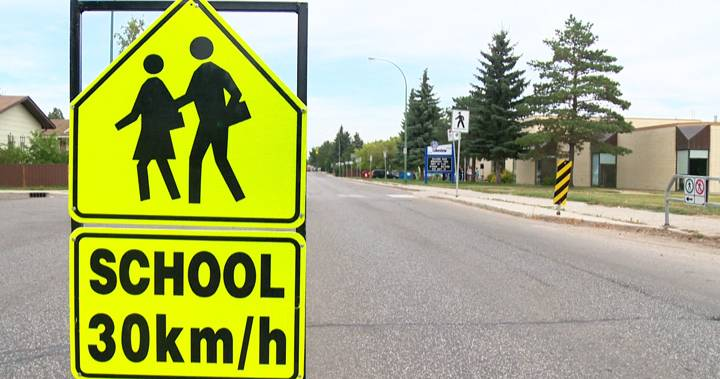slow: (68, 1, 306, 231)
